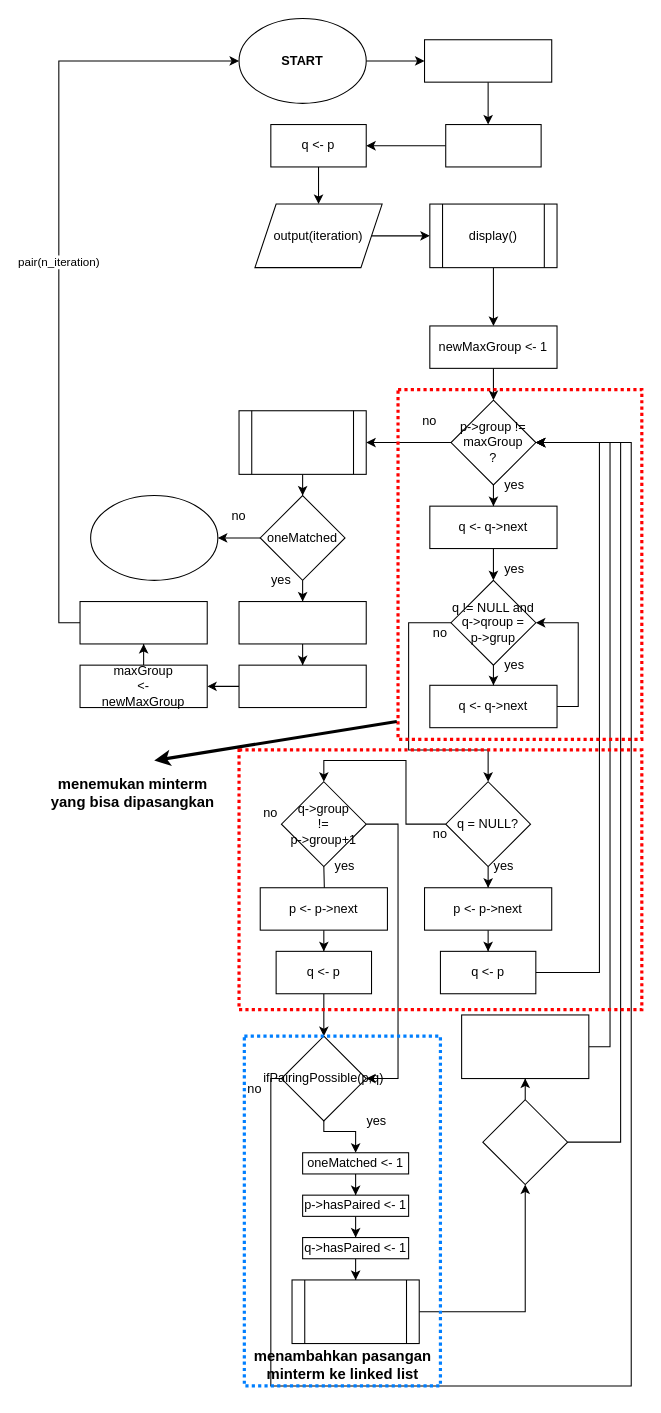
Image size: 661x1413. Some labels were removed from this diagram. Here are the shapes that lost their labels. From the top down, the centre of each, then its label:
At (x=487, y=60): "int oneMatched <- 0".
At (x=493, y=145): "p <- head".
At (x=302, y=442): "tambahKeTabel()".
At (x=154, y=537): "FINISH".
At (x=143, y=622): "*n_iteration <- (*n_iteration) + 1".
At (x=302, y=622): "head <- head2".
At (x=302, y=686): "head2 <- NULL".
At (x=525, y=1046): "newMaxGroup <- p->group".
At (x=525, y=1142): "p->group > newMaxGroup".
At (x=355, y=1311): "addPair(p,q)".
